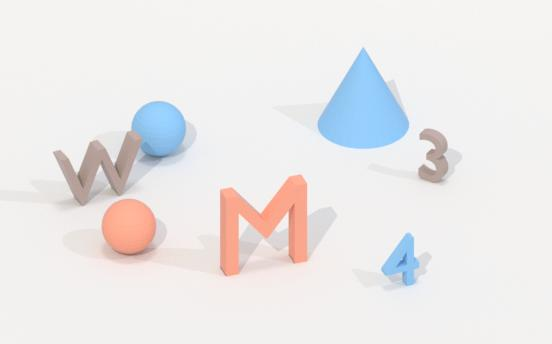3: (415, 125, 453, 185)
4: (375, 229, 425, 289)
M-hoa: (215, 170, 312, 279)
cau: (130, 97, 191, 160), (99, 197, 160, 257)
non: (314, 46, 413, 149)
w: (47, 133, 145, 207)
